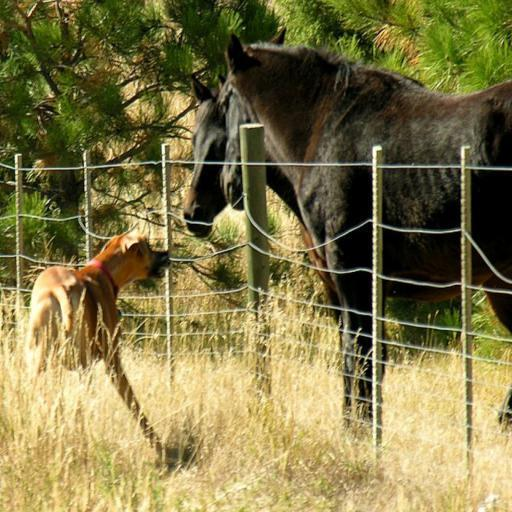horse: (216, 22, 512, 450), (180, 72, 512, 424)
